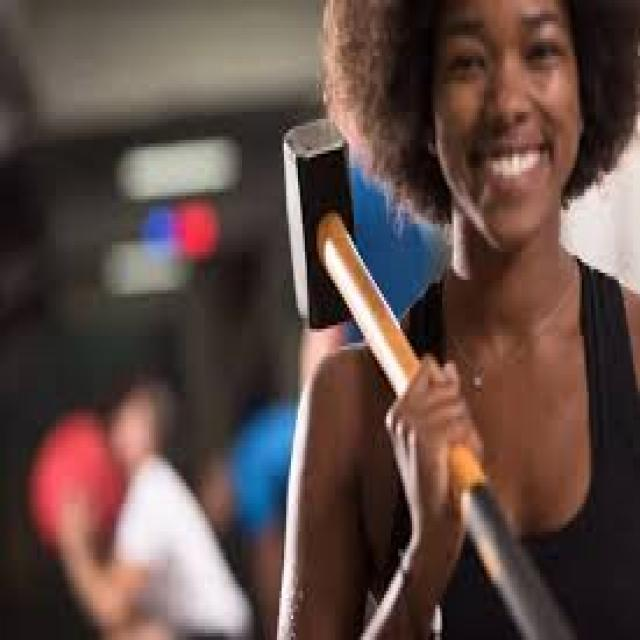hammer: (277, 105, 591, 640)
